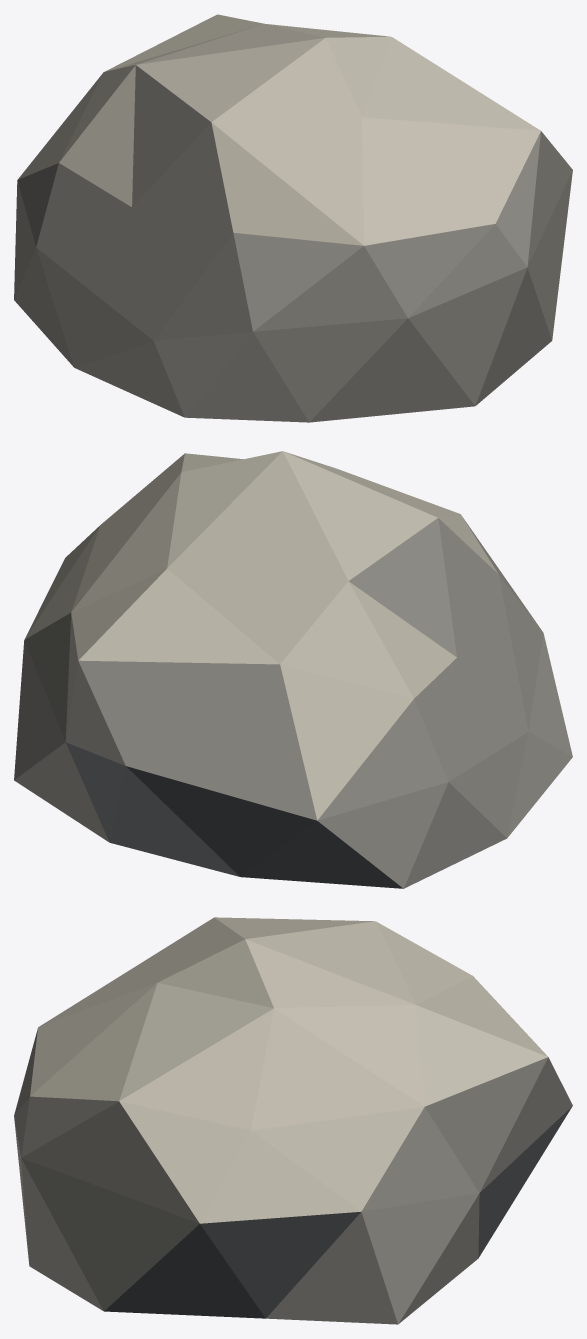
The model's file is SM_Rock_A.fbx.
The picture shows the model from 3 angles, top to bottom: view 1: azimuth 30°, elevation 25°; view 2: azimuth 150°, elevation 25°; view 3: azimuth 270°, elevation 25°; orthographic projection. The views are drawn at different scales.
Parts seen in each view (by area): view 1: SM_Rock_A; view 2: SM_Rock_A; view 3: SM_Rock_A.
Part boxes in pixels (bbox=[...]): SM_Rock_A: bbox=[14, 14, 572, 422]; SM_Rock_A: bbox=[14, 451, 572, 888]; SM_Rock_A: bbox=[14, 917, 572, 1324].
Size of the model in its own units: 1.17 by 0.7394 by 1.23.
